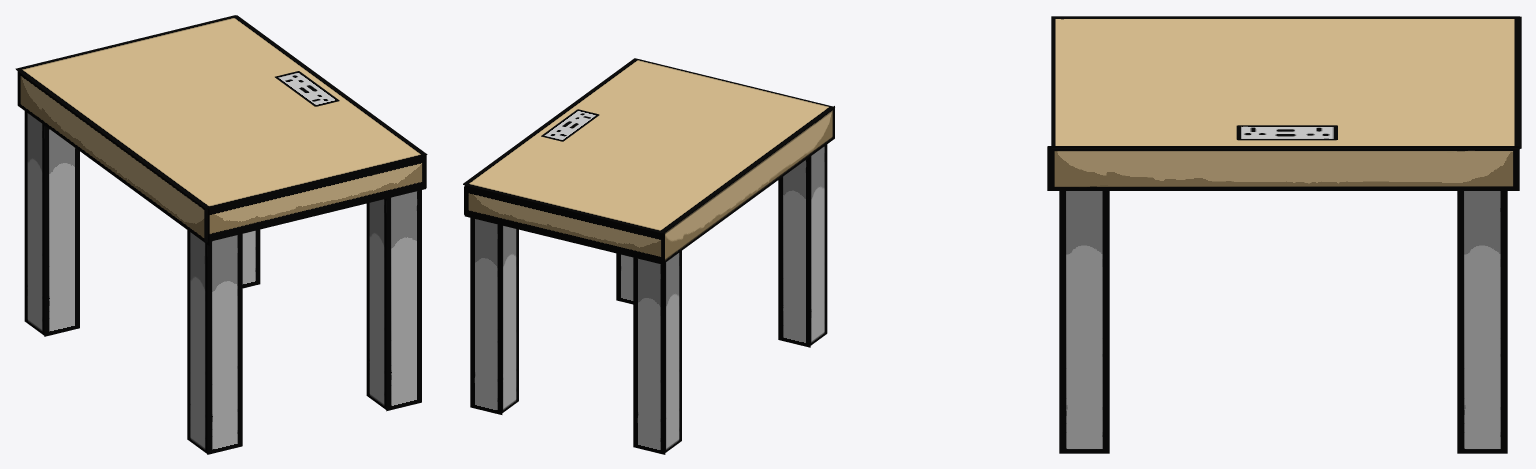
The model's file is Student Table Kontak.gltf.
The picture shows the model from 3 angles, left to right: view 1: azimuth 30°, elevation 25°; view 2: azimuth 150°, elevation 25°; view 3: azimuth 270°, elevation 25°; orthographic projection. The views are drawn at different scales.
Visible parts, largest first — view 1: default; view 2: default; view 3: default.
Part boxes in pixels (x1,y1,x2,y2): default: (15,15,427,454); default: (463,58,834,454); default: (1047,16,1521,453).
Bounding box in the file's own units: 27.94 × 33.88 × 57.06.
Materials: 3 (3 with a texture image).
